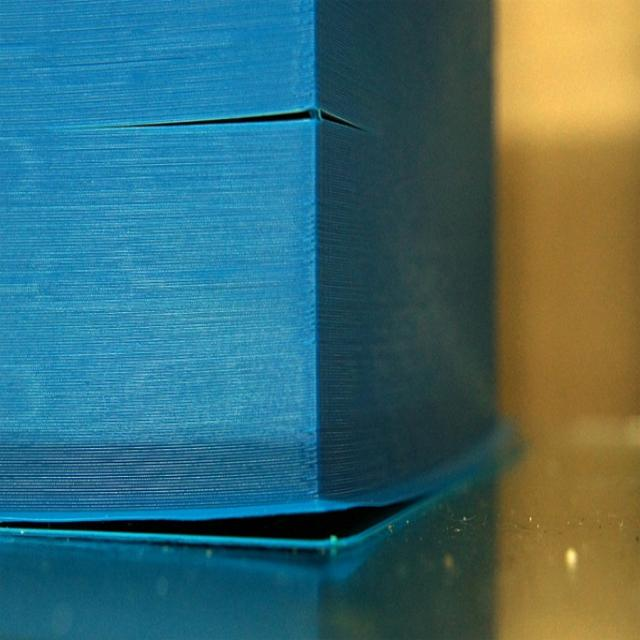cracks: (1, 484, 432, 558), (98, 97, 380, 179)
